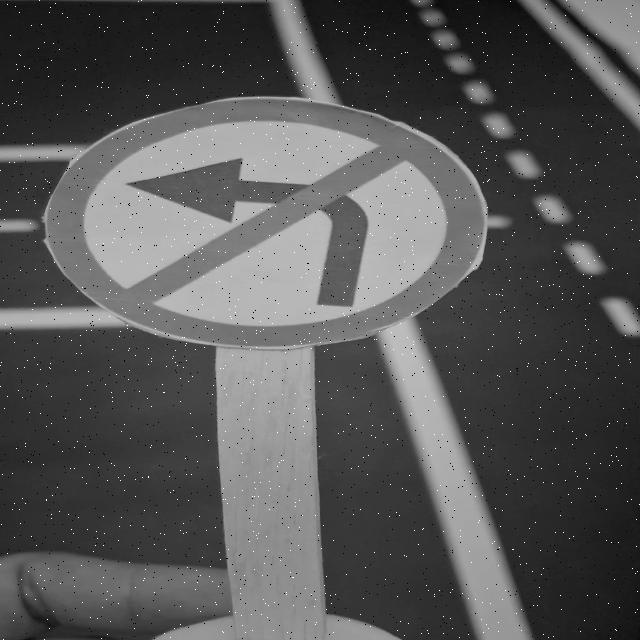Dilarang Belok Kiri: (43, 96, 490, 349)
